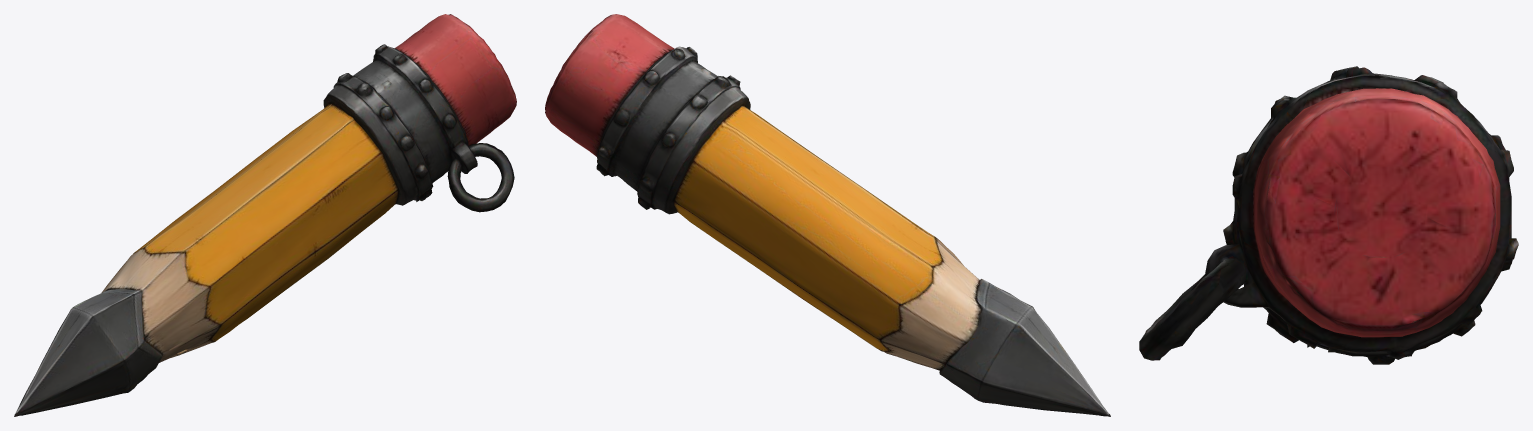
The model's file is boss_pencil.glb.
3 views of the same model, side by side, from view 1: azimuth 30°, elevation 25°; view 2: azimuth 150°, elevation 25°; view 3: azimuth 270°, elevation 25° (orthographic). The views are drawn at different scales.
Visible parts, largest first — view 1: tripo_node_0c13722e-69ff-45f0-b65c-5f093f94bea2; view 2: tripo_node_0c13722e-69ff-45f0-b65c-5f093f94bea2; view 3: tripo_node_0c13722e-69ff-45f0-b65c-5f093f94bea2.
Boxes of the visible parts, x1,y1,x2,y2 form: tripo_node_0c13722e-69ff-45f0-b65c-5f093f94bea2: (14, 14, 516, 416); tripo_node_0c13722e-69ff-45f0-b65c-5f093f94bea2: (545, 14, 1110, 416); tripo_node_0c13722e-69ff-45f0-b65c-5f093f94bea2: (1139, 66, 1518, 364).
Size of the model in its own units: 1 by 0.5186 by 0.3268.
Materials: 1 (1 with a texture image).
